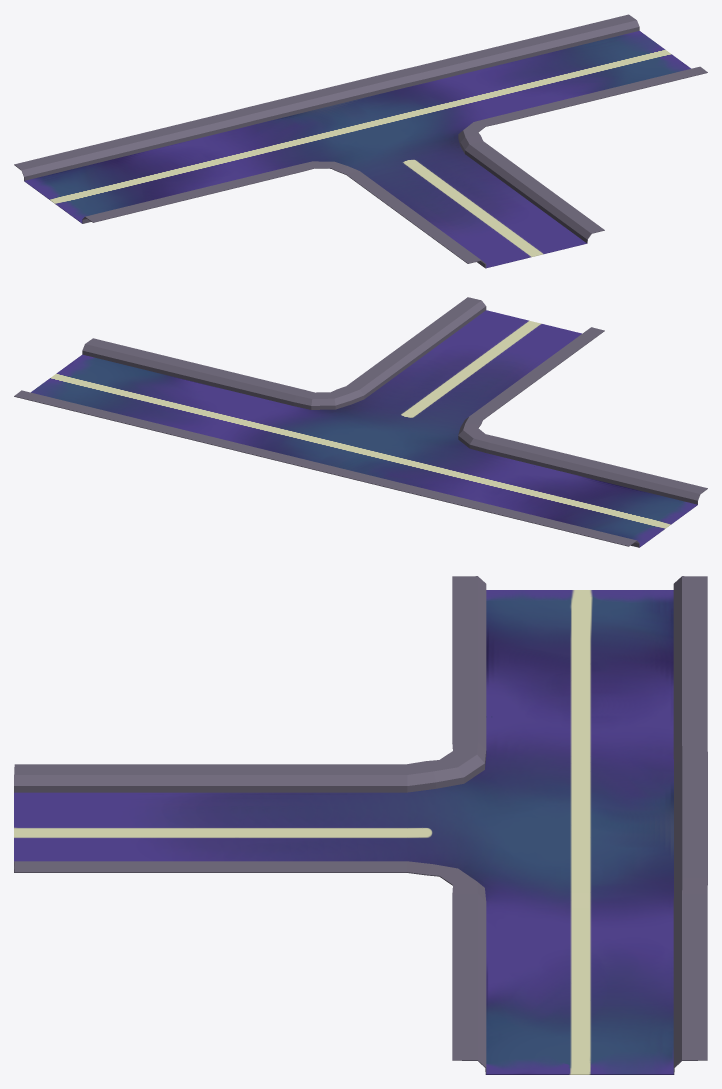
Rendered from SM_ARCH_RoadT-Juction_v01.fbx.
3 renders of one model, top to bottom at view 1: azimuth 30°, elevation 25°; view 2: azimuth 150°, elevation 25°; view 3: azimuth 270°, elevation 25°, orthographic. The views are drawn at different scales.
Visible parts, largest first — view 1: T-road; view 2: T-road; view 3: T-road.
Boxes of the visible parts, x1=… form: T-road: x1=14, y1=14, x2=707, y2=268; T-road: x1=14, y1=297, x2=707, y2=547; T-road: x1=14, y1=576, x2=707, y2=1074.
Bounding box in the file's own units: 3204 × 46.21 × 1941.
2 materials, 1 textured.
